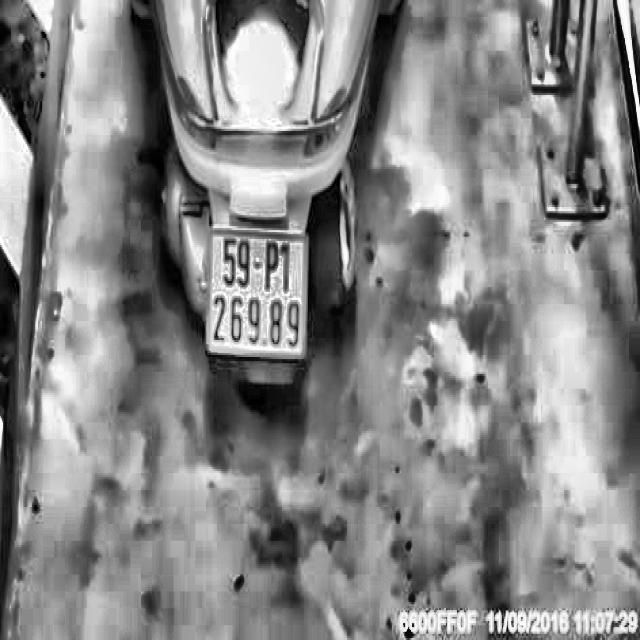plate: (205, 226, 308, 363)
